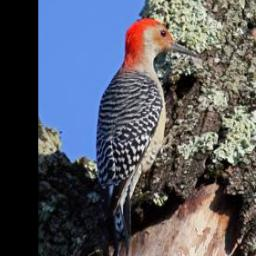Woodpecker: (94, 15, 198, 254)
